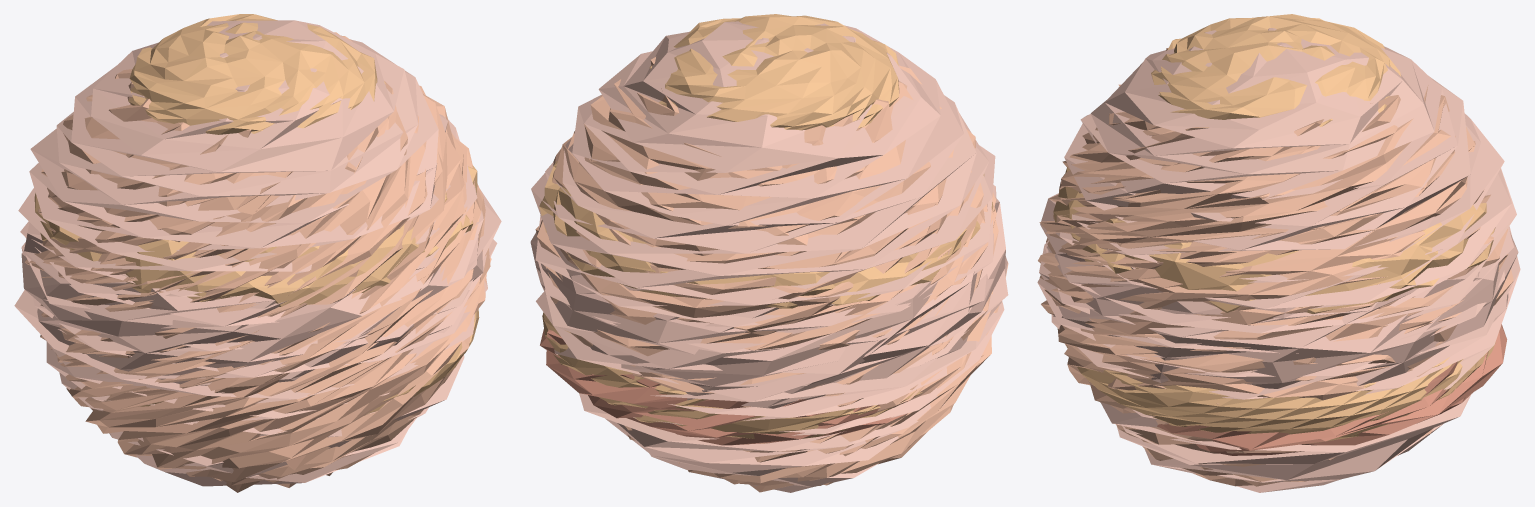
Rendered from jupiter.gltf.
3 views of the same model, side by side, from view 1: azimuth 30°, elevation 25°; view 2: azimuth 150°, elevation 25°; view 3: azimuth 270°, elevation 25° (orthographic).
Visible parts, largest first — view 1: Jupiter_Sphere4_Jupiter_Sphere41, Jupiter_Sphere_11, Jupiter_Sphere_81_Sphere_8, Jupiter_Sphere_33_Sphere_32, Jupiter_Sphere_9_Sphere_93, Jupiter_Sphere_2_Sphere_21; view 2: Jupiter_Sphere_11, Jupiter_Sphere4_Jupiter_Sphere41, Jupiter_Sphere_33_Sphere_32, Jupiter_Sphere_81_Sphere_8, Jupiter_Sphere_62_Sphere_63, Jupiter_Sphere_9_Sphere_93, Jupiter_Sphere_2_Sphere_21; view 3: Jupiter_Sphere_11, Jupiter_Sphere4_Jupiter_Sphere41, Jupiter_Sphere_33_Sphere_32, Jupiter_Sphere_81_Sphere_8, Jupiter_Sphere_2_Sphere_21, Jupiter_Sphere_9_Sphere_93, Jupiter_Sphere_62_Sphere_63.
Boxes of the visible parts, x1,y1,x2,y2 form: Jupiter_Sphere4_Jupiter_Sphere41: (24,32,491,492); Jupiter_Sphere_11: (14,20,501,486); Jupiter_Sphere_81_Sphere_8: (128,14,385,134); Jupiter_Sphere_33_Sphere_32: (21,222,486,385); Jupiter_Sphere_9_Sphere_93: (34,165,477,306); Jupiter_Sphere_2_Sphere_21: (56,309,479,415); Jupiter_Sphere_11: (531,21,1008,492); Jupiter_Sphere4_Jupiter_Sphere41: (535,57,1008,492); Jupiter_Sphere_33_Sphere_32: (530,197,1007,408); Jupiter_Sphere_81_Sphere_8: (649,14,899,130); Jupiter_Sphere_62_Sphere_63: (540,315,908,445); Jupiter_Sphere_9_Sphere_93: (539,161,994,308); Jupiter_Sphere_2_Sphere_21: (542,312,922,438); Jupiter_Sphere_11: (1037,28,1520,492); Jupiter_Sphere4_Jupiter_Sphere41: (1038,48,1513,486); Jupiter_Sphere_33_Sphere_32: (1039,193,1518,388); Jupiter_Sphere_81_Sphere_8: (1151,14,1401,127); Jupiter_Sphere_2_Sphere_21: (1066,342,1495,444); Jupiter_Sphere_9_Sphere_93: (1053,167,1495,313); Jupiter_Sphere_62_Sphere_63: (1157,324,1507,455).
Bounding box in the file's own units: 0.0644 × 0.0635 × 0.0638.
